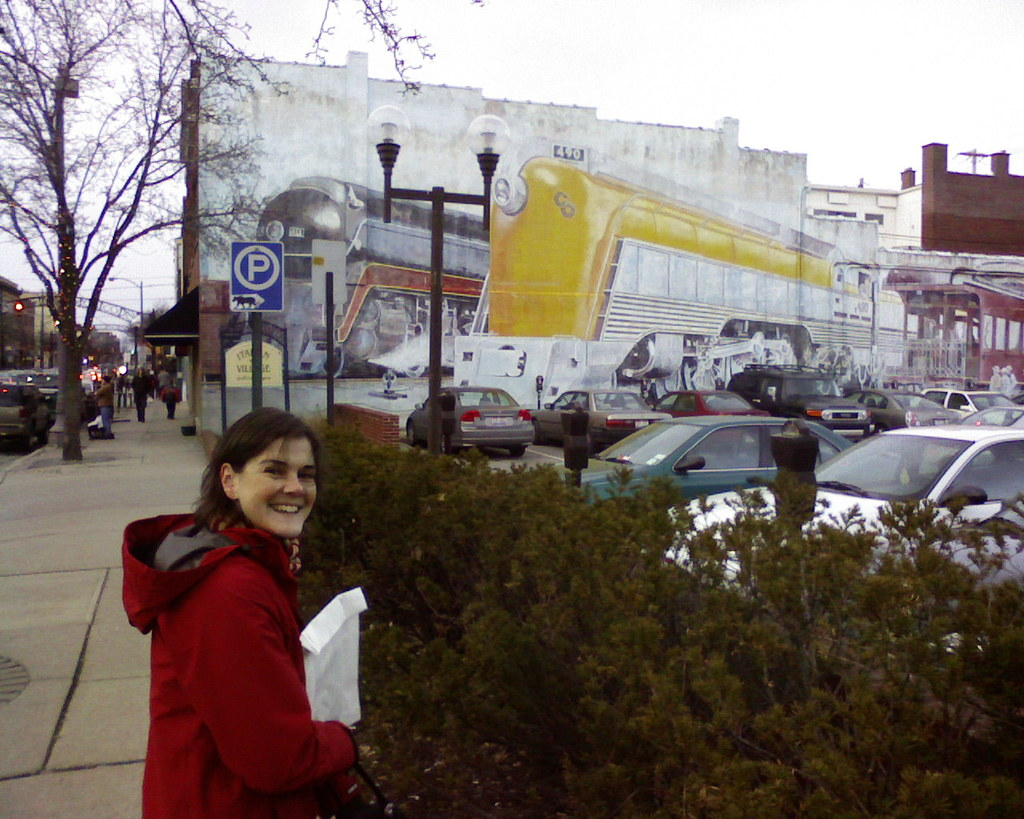Tree: (0, 0, 433, 450)
